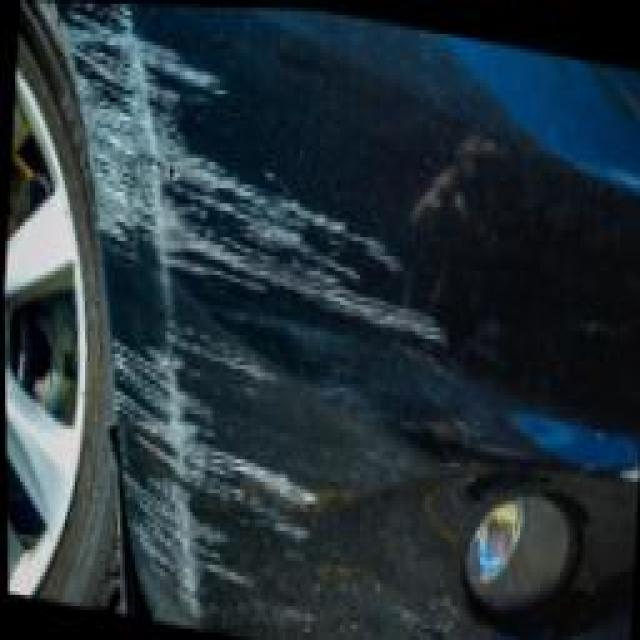Bumper: (28, 0, 480, 639)
